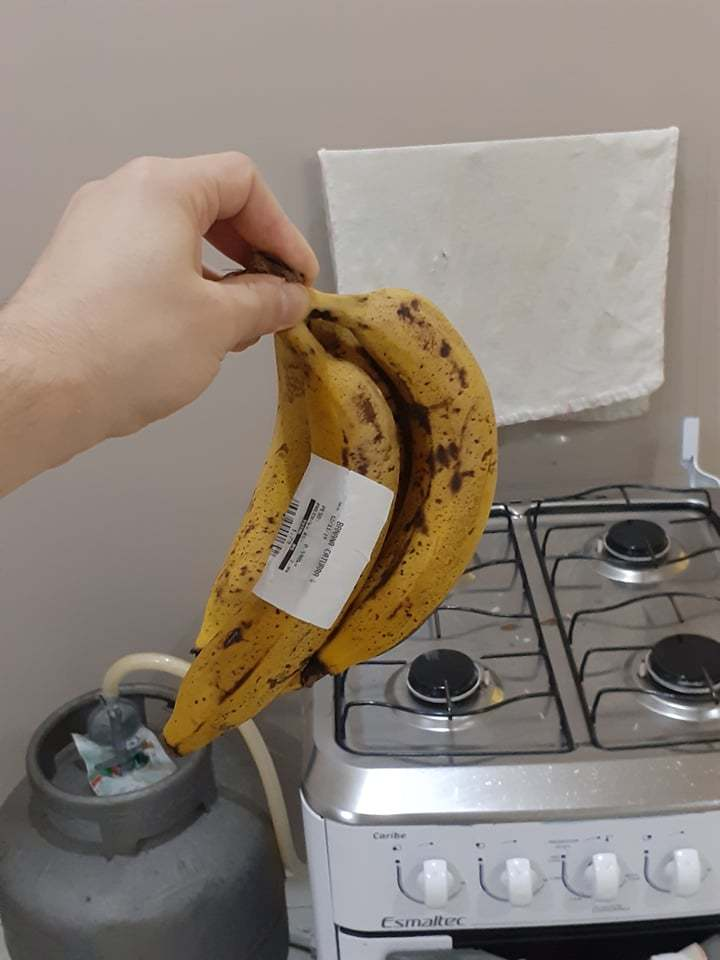banana: (187, 284, 501, 754)
